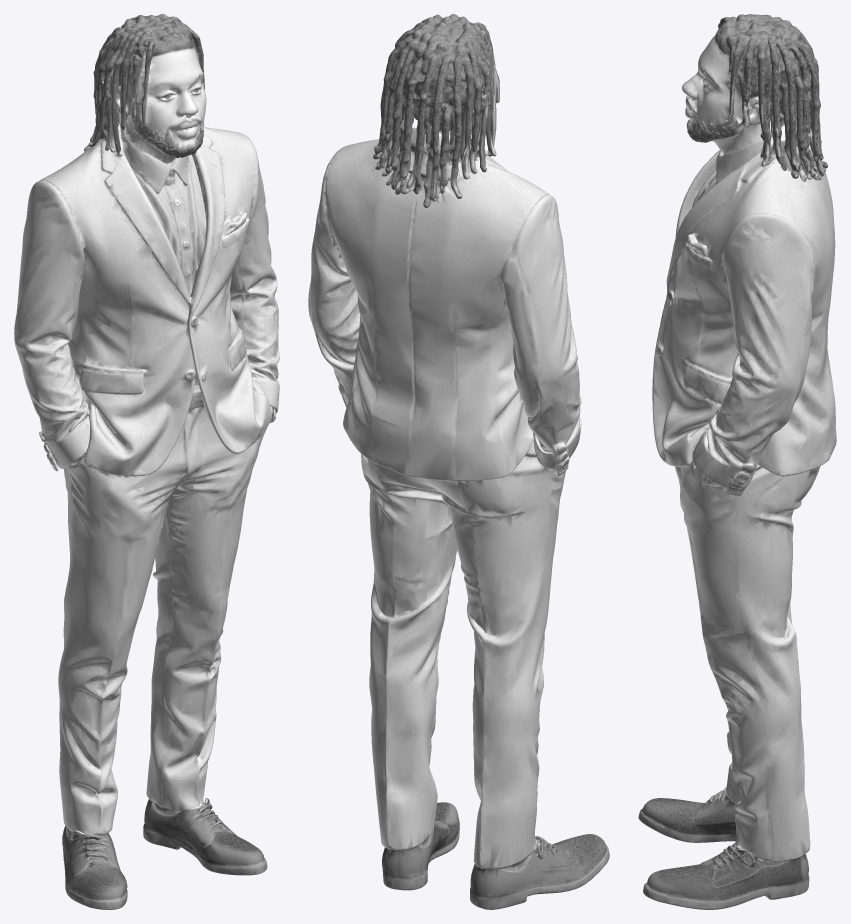
File: marquis-v11.glb
3 renders of one model, left to right at view 1: azimuth 30°, elevation 25°; view 2: azimuth 150°, elevation 25°; view 3: azimuth 270°, elevation 25°, orthographic. The views are drawn at different scales.
Parts seen in each view (by area): view 1: mesh_node; view 2: mesh_node; view 3: mesh_node.
Boxes of the visible parts, x1,y1,x2,y2 form: mesh_node: (14,14,279,909); mesh_node: (308,14,609,909); mesh_node: (638,14,836,909).
Bounding box in the file's own units: 0.6007 × 1.9 × 0.3984.
Materials: 1 (1 with a texture image).
